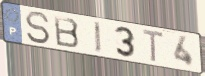3: (113, 25, 138, 59)
4: (172, 34, 196, 70)
B: (52, 14, 81, 50)
I: (92, 20, 103, 56)
S: (24, 10, 52, 46)
T: (141, 27, 166, 64)
